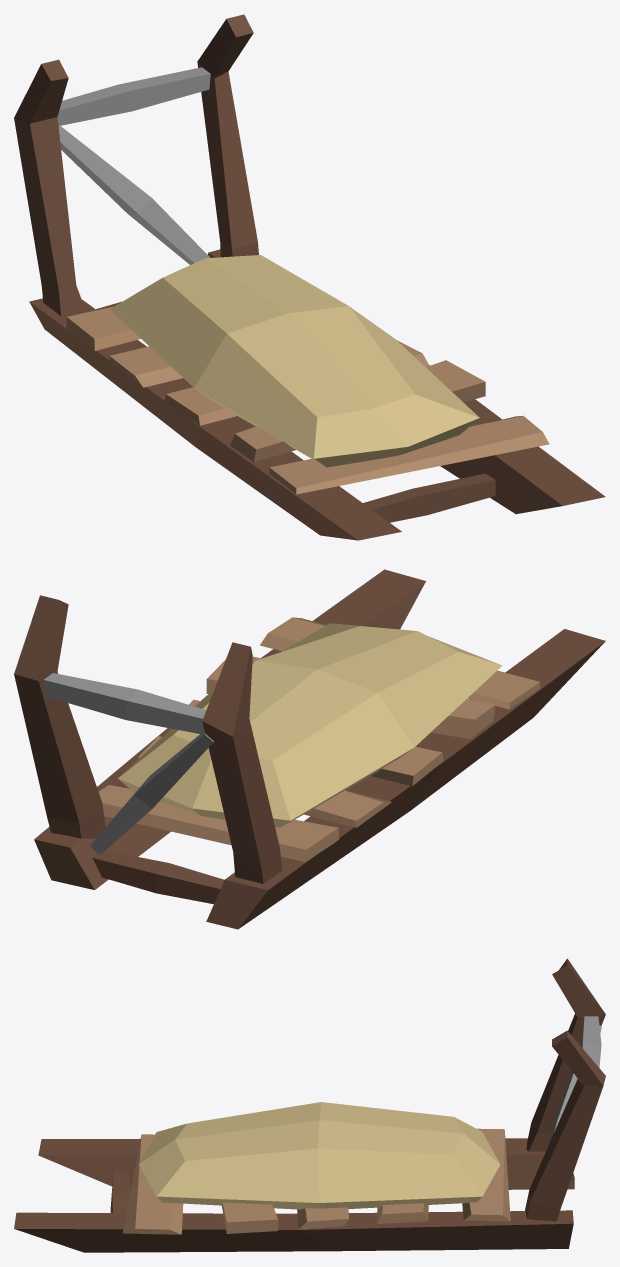
The model's file is sled.fbx.
3 renders of one model, top to bottom at view 1: azimuth 30°, elevation 25°; view 2: azimuth 150°, elevation 25°; view 3: azimuth 270°, elevation 25°, orthographic. The views are drawn at different scales.
Visible parts, largest first — view 1: Sled, Sled luggage; view 2: Sled, Sled luggage; view 3: Sled, Sled luggage.
Part boxes in pixels (x1,y1,x2,y2): Sled: (14,14,605,540); Sled luggage: (109,255,479,467); Sled: (14,569,605,929); Sled luggage: (118,623,502,827); Sled: (14,958,605,1252); Sled luggage: (138,1102,500,1209).
Size of the model in its own units: 109 by 113 by 280.
